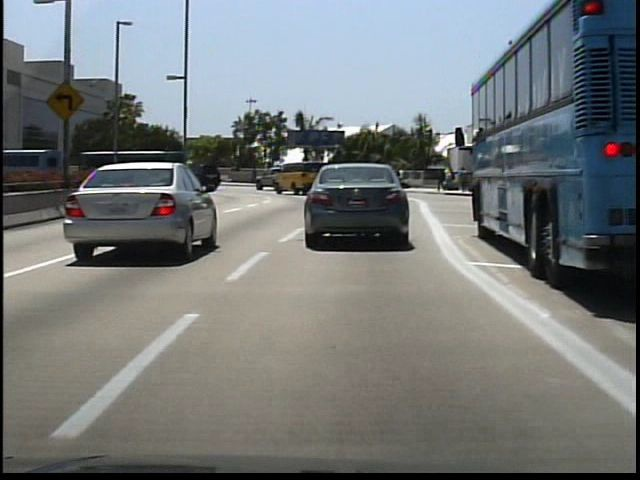person: (456, 164, 470, 196), (433, 166, 446, 193), (252, 162, 261, 184)
